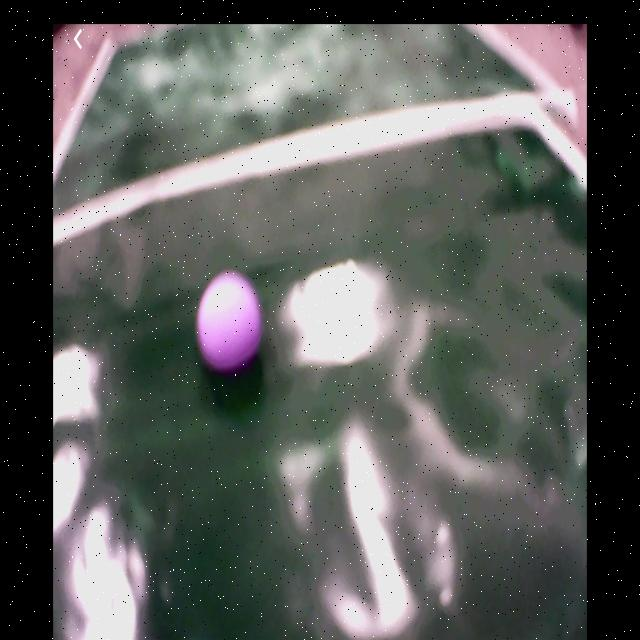ball: (195, 268, 265, 374)
